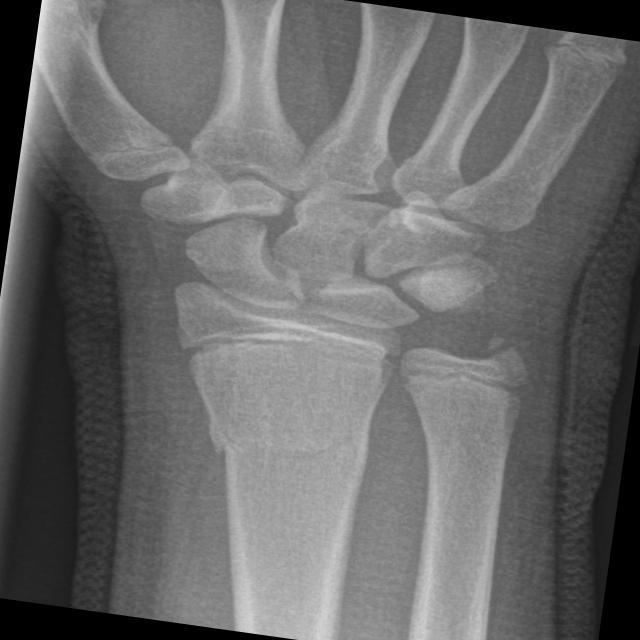fracture: (166, 301, 411, 404), (184, 404, 386, 484), (384, 342, 540, 410)
